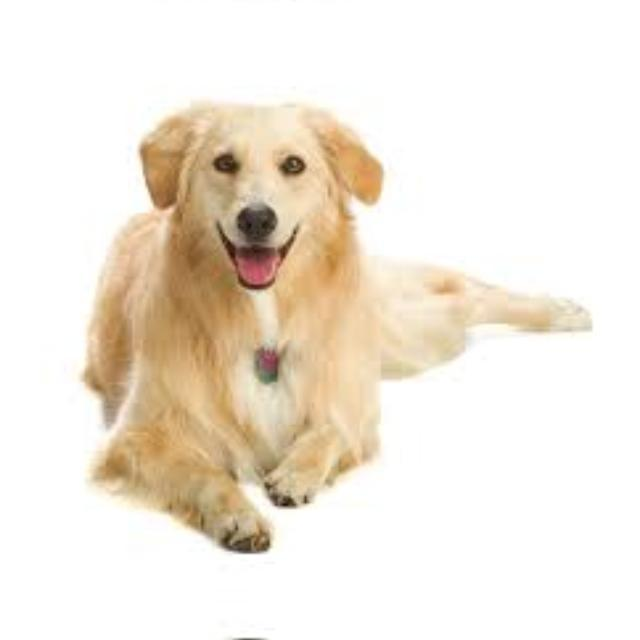dog: (124, 86, 406, 306)
